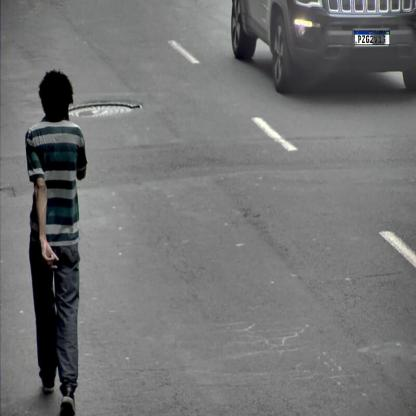PlacaM: (354, 31, 390, 45)
